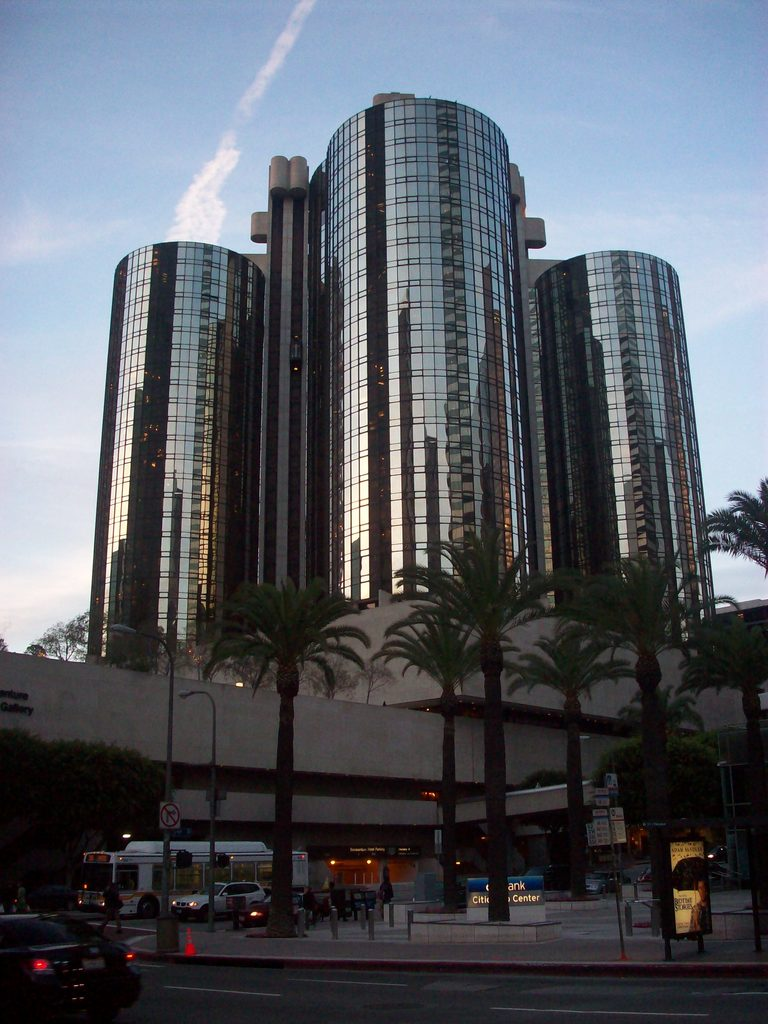Car: (8, 911, 133, 1007), (171, 872, 266, 919)
